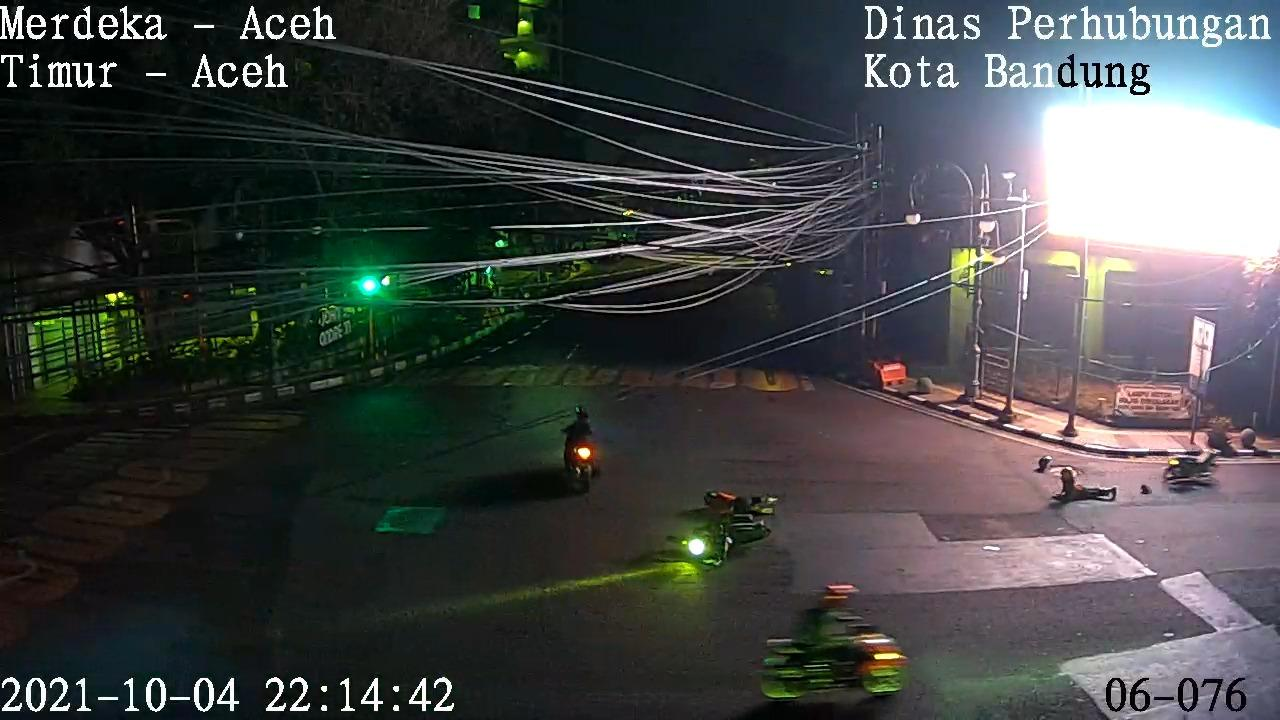accident: (673, 478, 782, 528), (1040, 459, 1126, 512)
